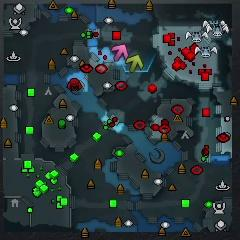x1: (112, 43, 129, 61)
x2: (125, 55, 145, 74)
